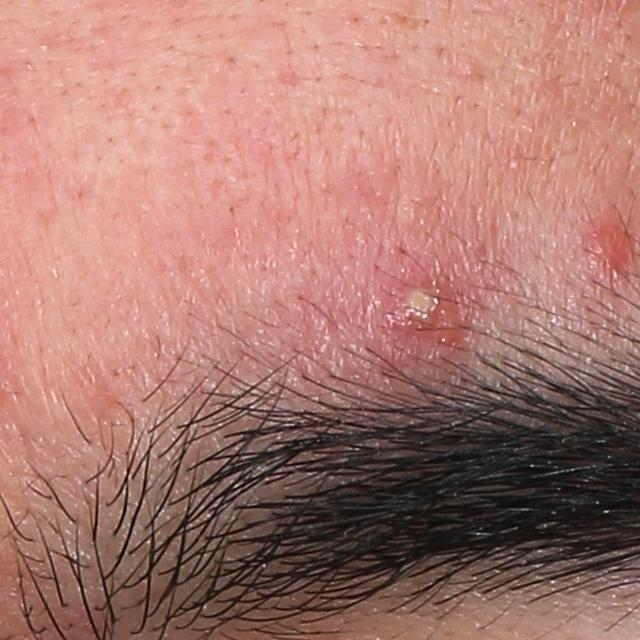papule: (591, 216, 629, 270)
pustule: (390, 271, 447, 333)
